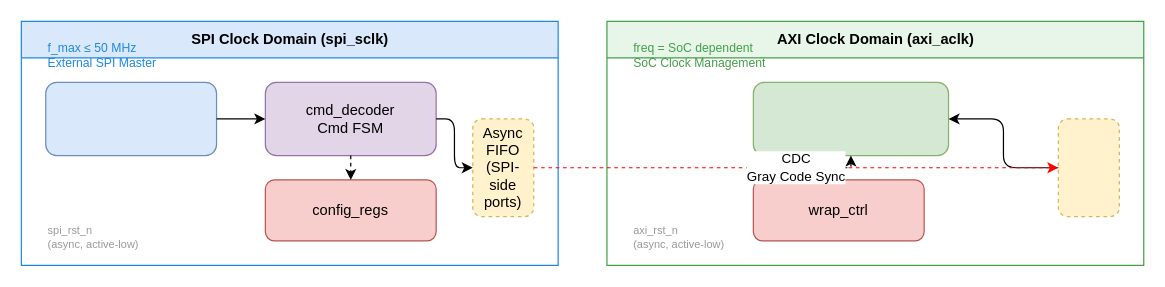
The diagram is 1165 pixels wide and 287 high, and some of its shapes have lost their labels. Each missing label, with the centre of its shape:
Async FIFO (AXI-side ports): pixel 1088 167
axi_master AXI4-Lite Master: pixel 850 118
spi_slave SPI I/F: pixel 131 118
